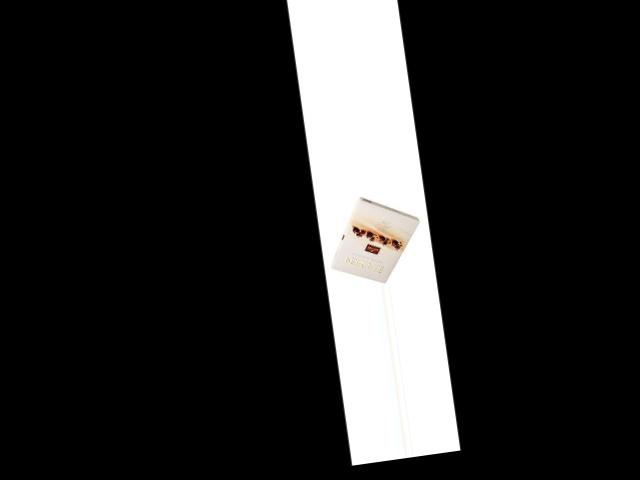chocolate: (322, 186, 434, 288)
